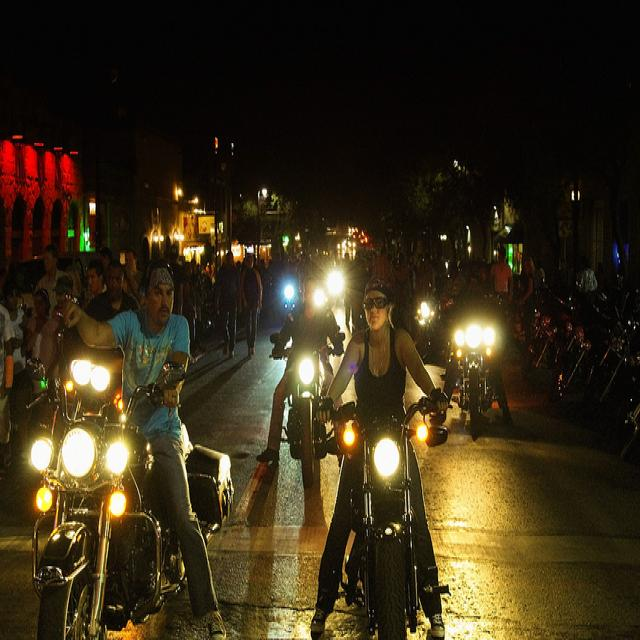motor: (34, 309, 234, 632), (330, 398, 434, 632), (286, 337, 347, 492), (555, 295, 638, 405), (540, 289, 617, 386), (582, 290, 640, 410), (450, 322, 501, 424), (523, 292, 582, 380), (413, 294, 454, 366), (619, 358, 640, 461), (508, 308, 538, 345)
